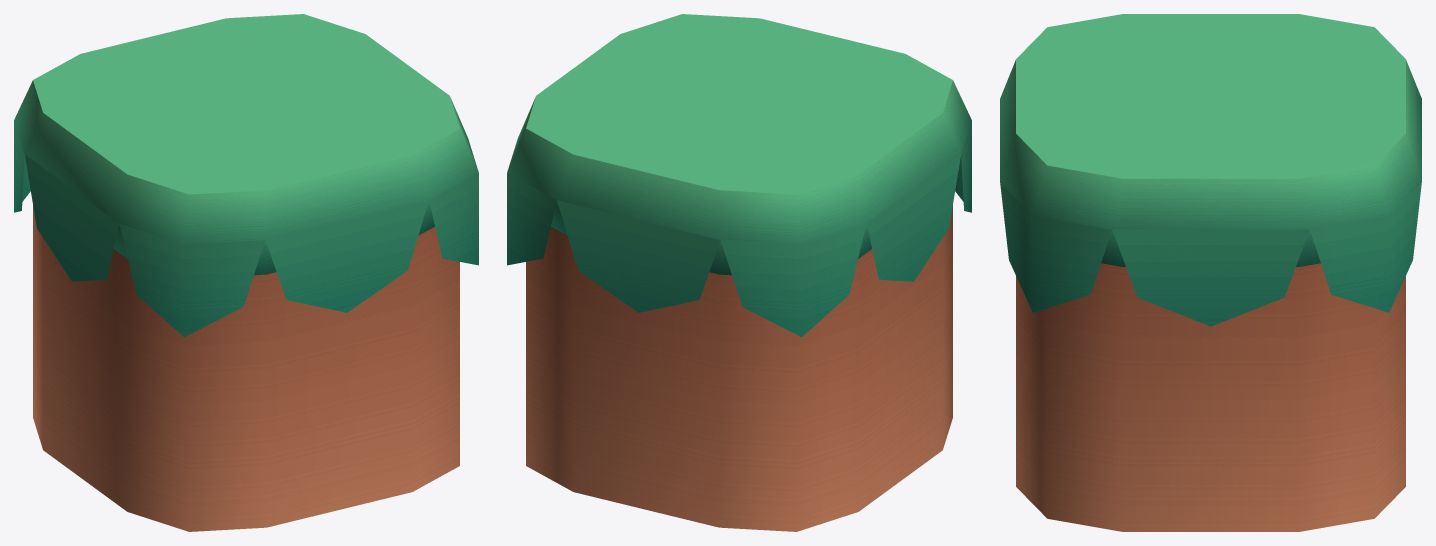
The model's file is block-grass-overhang-corner.glb.
3 views of the same model, side by side, from view 1: azimuth 30°, elevation 25°; view 2: azimuth 150°, elevation 25°; view 3: azimuth 270°, elevation 25° (orthographic). The views are drawn at different scales.
Visible parts, largest first — view 1: block-grass-overhang-corner; view 2: block-grass-overhang-corner; view 3: block-grass-overhang-corner.
Part boxes in pixels (box(x1,y1,x2,y2)): block-grass-overhang-corner: box(14, 14, 478, 531); block-grass-overhang-corner: box(507, 14, 971, 531); block-grass-overhang-corner: box(1000, 14, 1421, 531).
Bounding box in the file's own units: 1.08 × 1 × 1.08.
1 material, 1 textured.
